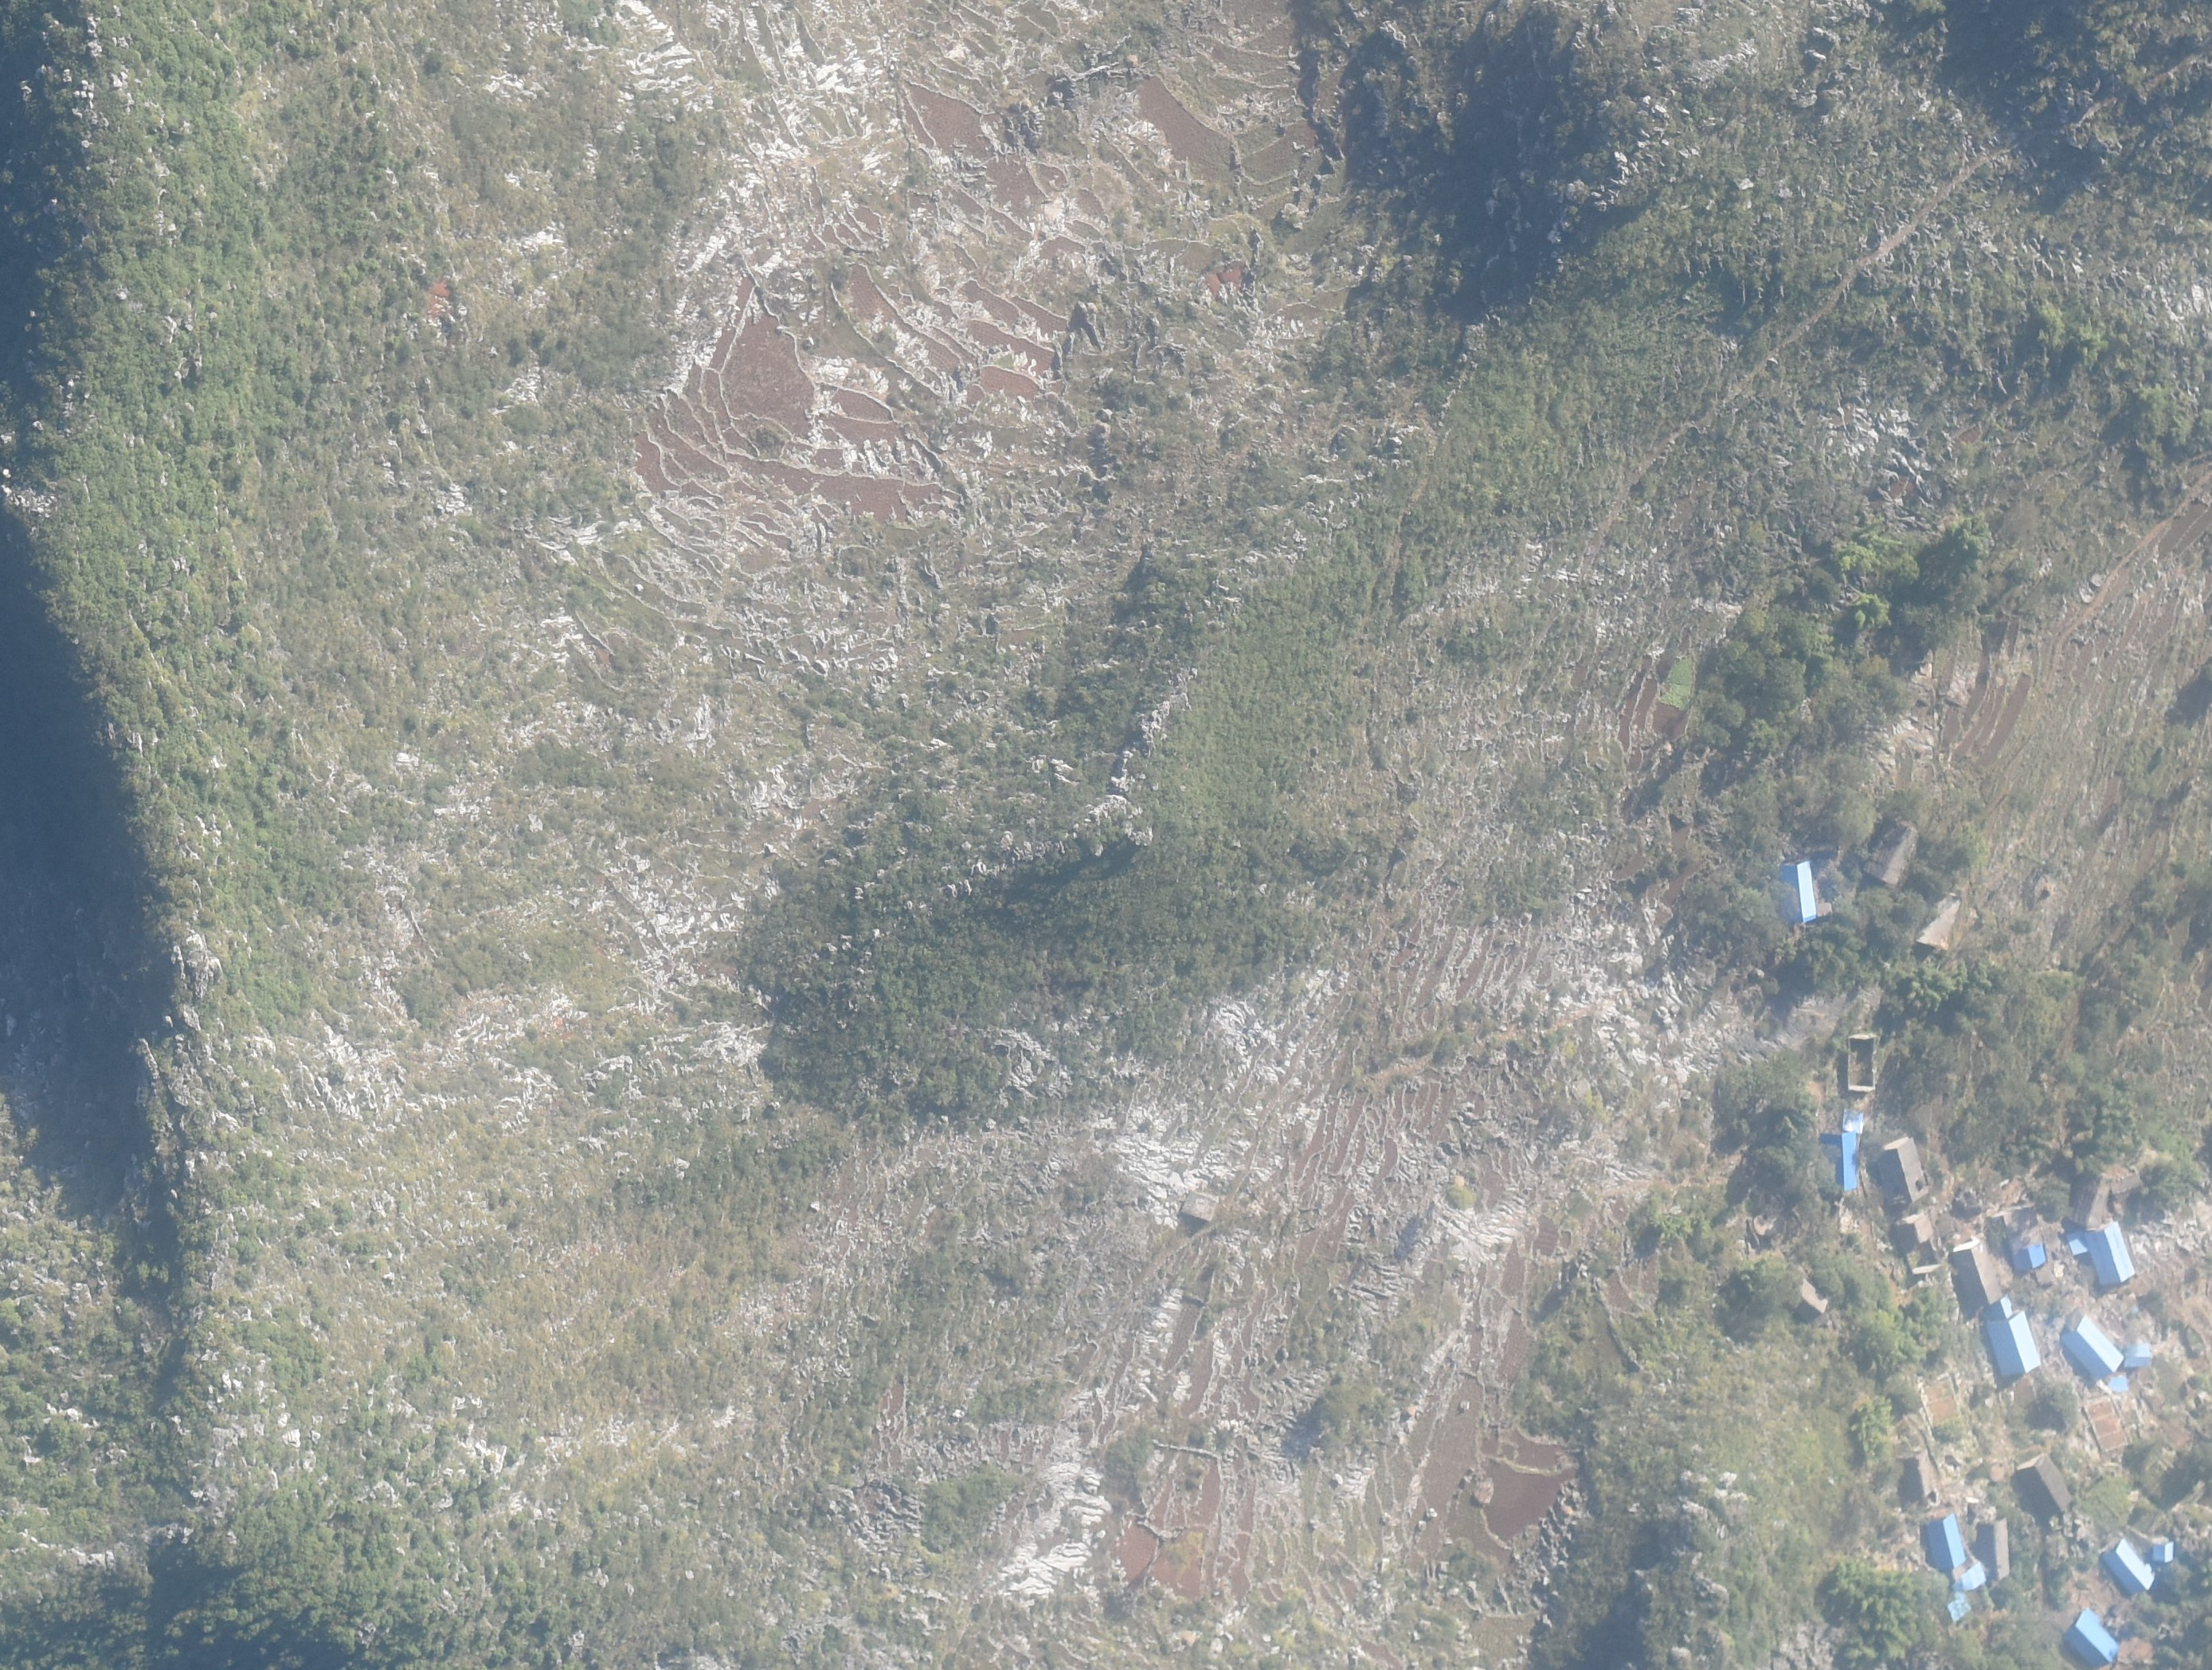building: (1861, 821, 1916, 884), (1879, 1137, 1928, 1205), (2016, 1452, 2072, 1512), (1952, 1238, 2002, 1305), (1919, 889, 1963, 949), (2072, 1170, 2112, 1230), (1977, 1519, 2012, 1581), (1793, 1279, 1830, 1323), (1900, 1452, 1930, 1500), (1849, 1038, 1875, 1089), (1896, 1216, 1933, 1249), (2112, 1174, 2144, 1202)
prefabricated-house: (2061, 1316, 2124, 1377), (1987, 1310, 2040, 1377), (2063, 1605, 2117, 1665), (2101, 1537, 2154, 1596), (2087, 1223, 2135, 1288), (1777, 860, 1816, 924), (1926, 1514, 1966, 1572), (1819, 1133, 1856, 1191), (1952, 1561, 1986, 1596), (2012, 1242, 2047, 1270), (1945, 1595, 1970, 1624), (2124, 1344, 2152, 1367), (1989, 1296, 2016, 1319), (1844, 1105, 1865, 1133), (2066, 1230, 2087, 1254), (2152, 1540, 2173, 1563), (2109, 1377, 2128, 1391)
